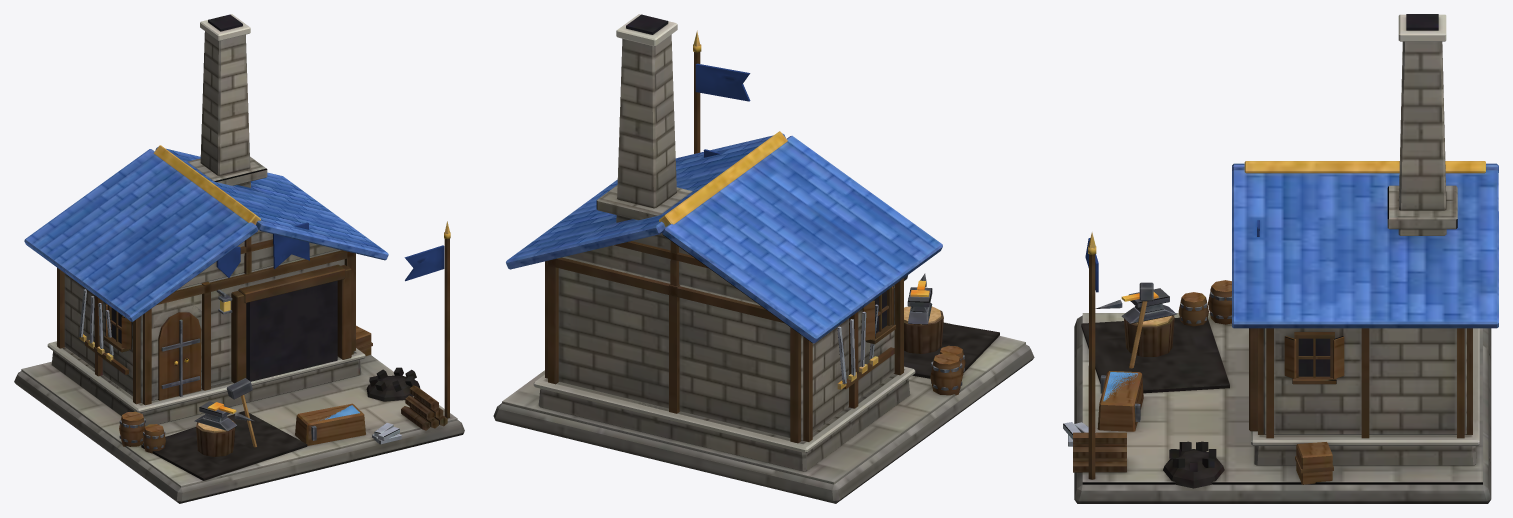
The model's file is forge.glb.
3 views of the same model, side by side, from view 1: azimuth 30°, elevation 25°; view 2: azimuth 150°, elevation 25°; view 3: azimuth 270°, elevation 25° (orthographic). The views are drawn at different scales.
Parts seen in each view (by area): view 1: Static_Mesh, Anim_Banners; view 2: Static_Mesh, Anim_Banners; view 3: Static_Mesh.
Part boxes in pixels (x1,y1,x2,y2): Static_Mesh: [14, 14, 464, 503]; Anim_Banners: [216, 222, 444, 281]; Static_Mesh: [493, 14, 1034, 503]; Anim_Banners: [695, 63, 750, 157]; Static_Mesh: [1063, 14, 1498, 503].
Bounding box in the file's own units: 6.58 × 7.32 × 6.86.
2 materials, 2 textured.
